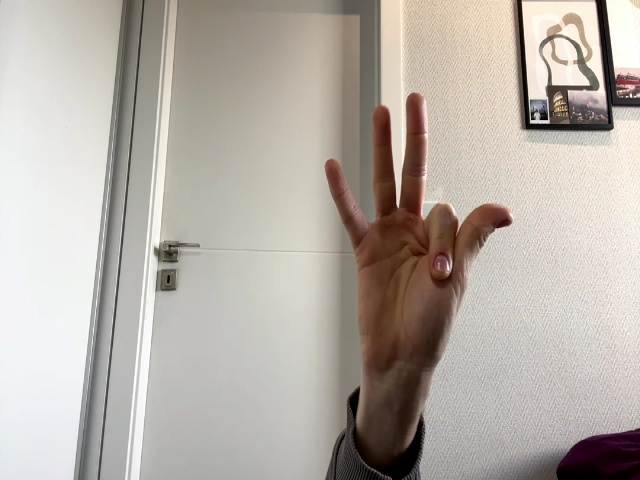F: (325, 93, 515, 373)
